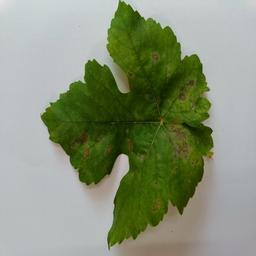Powdery-Mildew: (179, 73, 211, 122), (163, 123, 192, 161), (78, 131, 110, 161), (133, 149, 150, 166), (147, 196, 164, 213), (149, 48, 165, 64)
